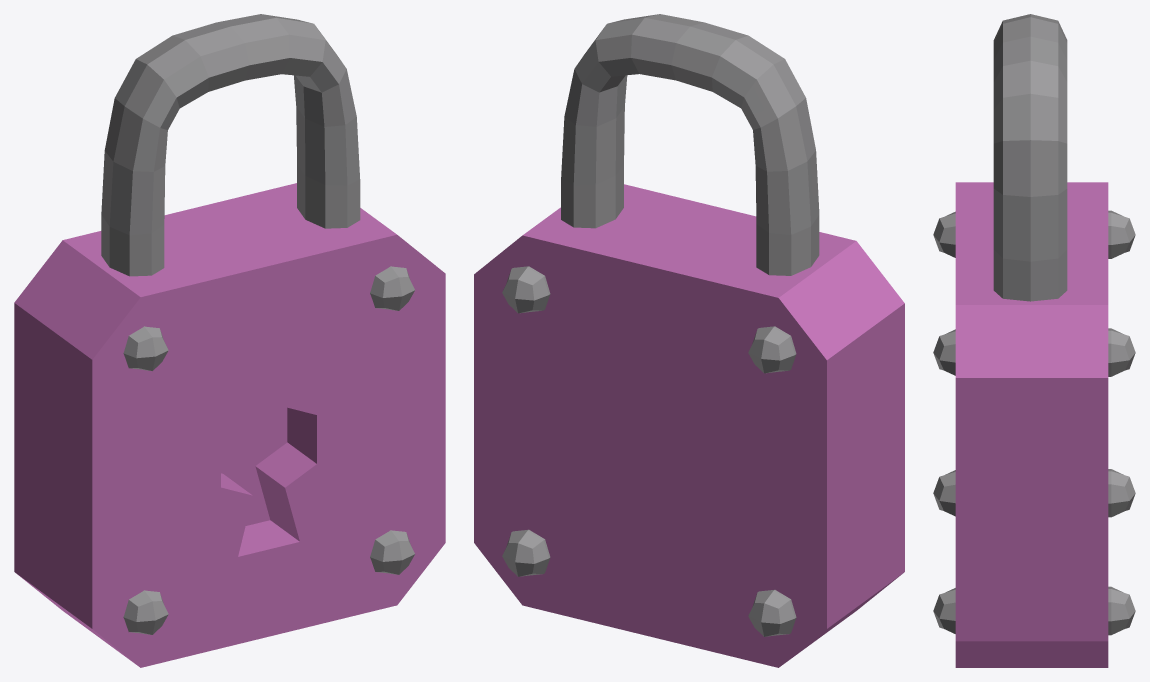
The model's file is lock_pink.glb.
3 renders of one model, left to right at view 1: azimuth 30°, elevation 25°; view 2: azimuth 150°, elevation 25°; view 3: azimuth 270°, elevation 25°, orthographic. The views are drawn at different scales.
Parts seen in each view (by area): view 1: Padlock; view 2: Padlock; view 3: Padlock.
Boxes of the visible parts, x1,y1,x2,y2 form: Padlock: (14,14,445,667); Padlock: (474,14,904,667); Padlock: (933,14,1135,667).
Size of the model in its own units: 0.6153 by 0.9686 by 0.3117.
